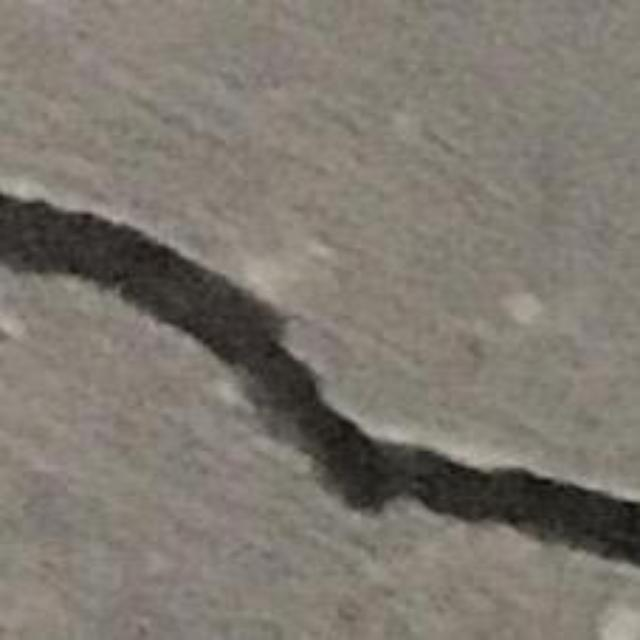crack: (0, 195, 639, 566)
